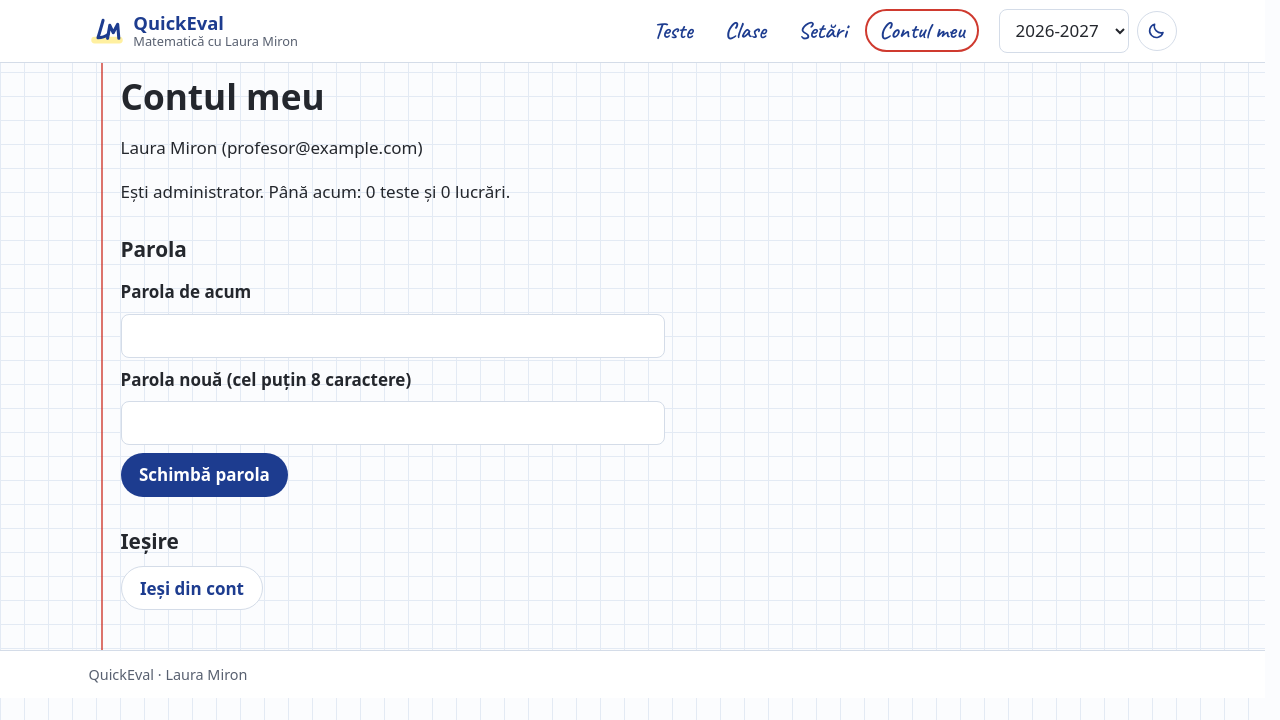
Test: AccountPage › changes the password
Type "parola-veche" into the password field labelled "Parola de acum" at (392, 336), box [120,314,664,358]
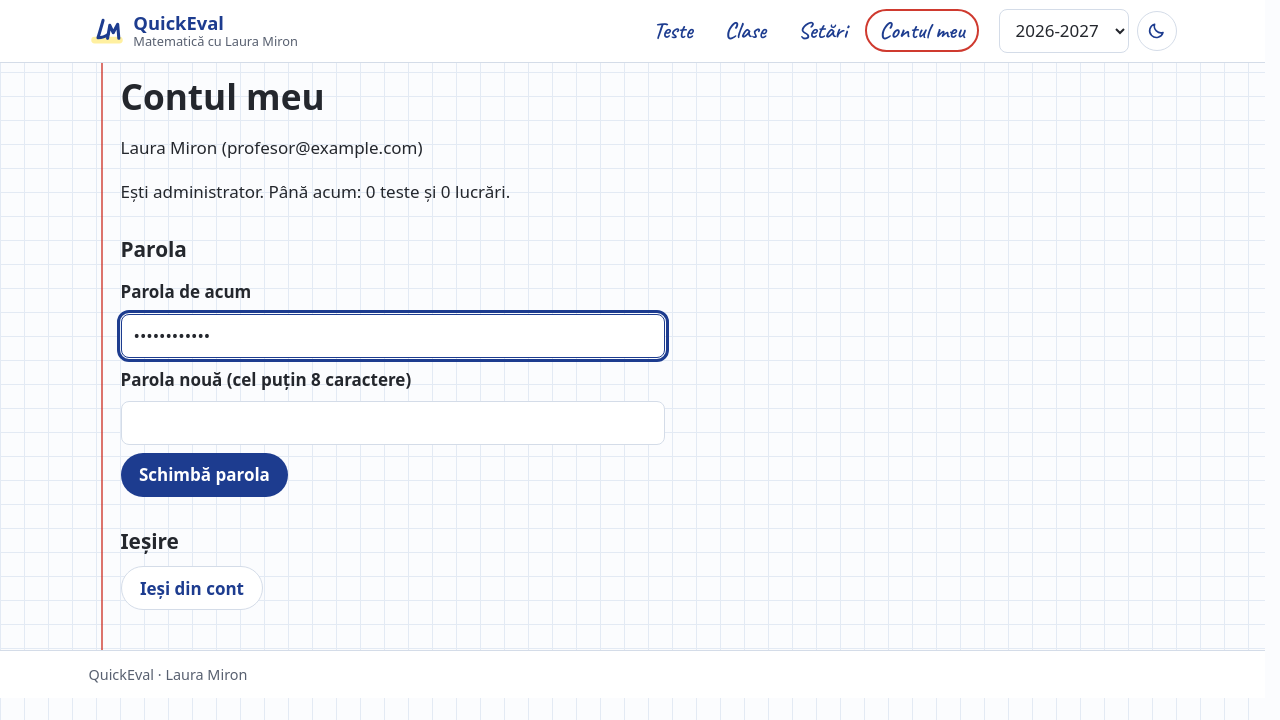
Type "parola-noua" into the password field labelled "Parola nouă (cel puțin 8 caractere)" at (392, 423), box [120,401,664,445]
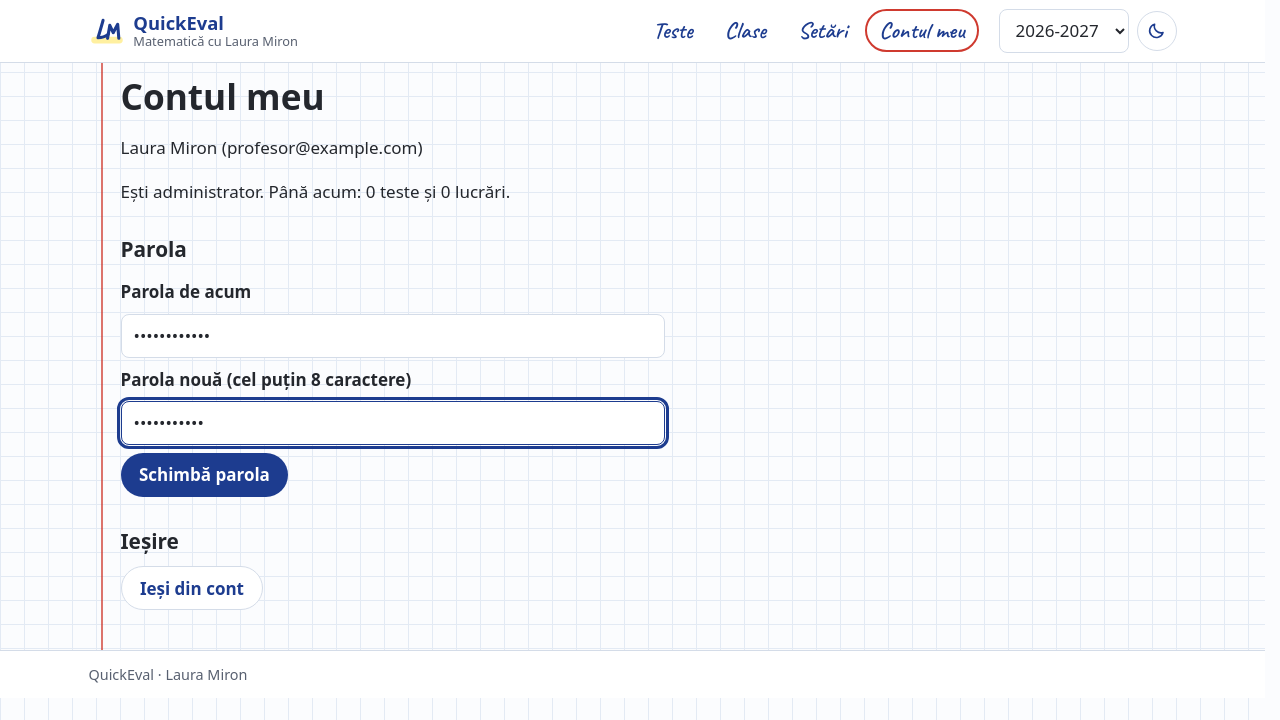
Click the button "Schimbă parola" at (204, 475), box [120,453,288,497]
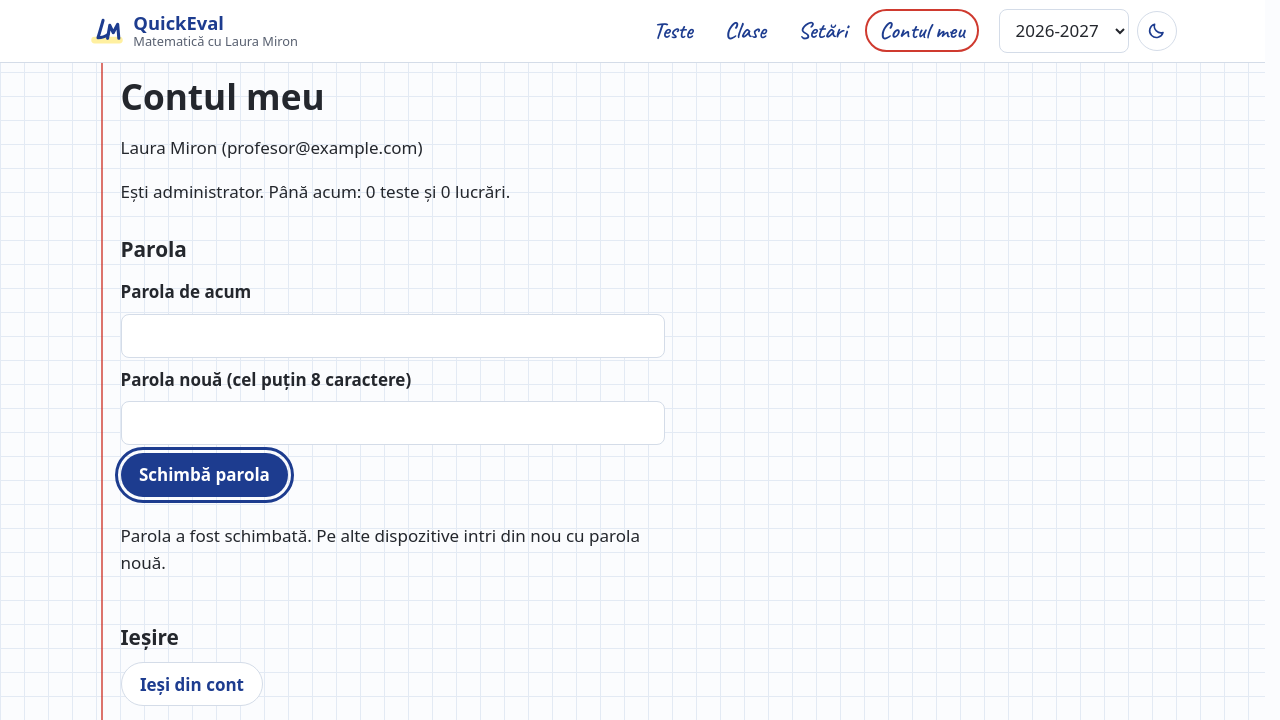
Check: the message shows "Parola a fost schimbată.", box [120,524,640,574]
Check: the password field labelled "Parola de acum" is empty, box [120,314,664,358]
